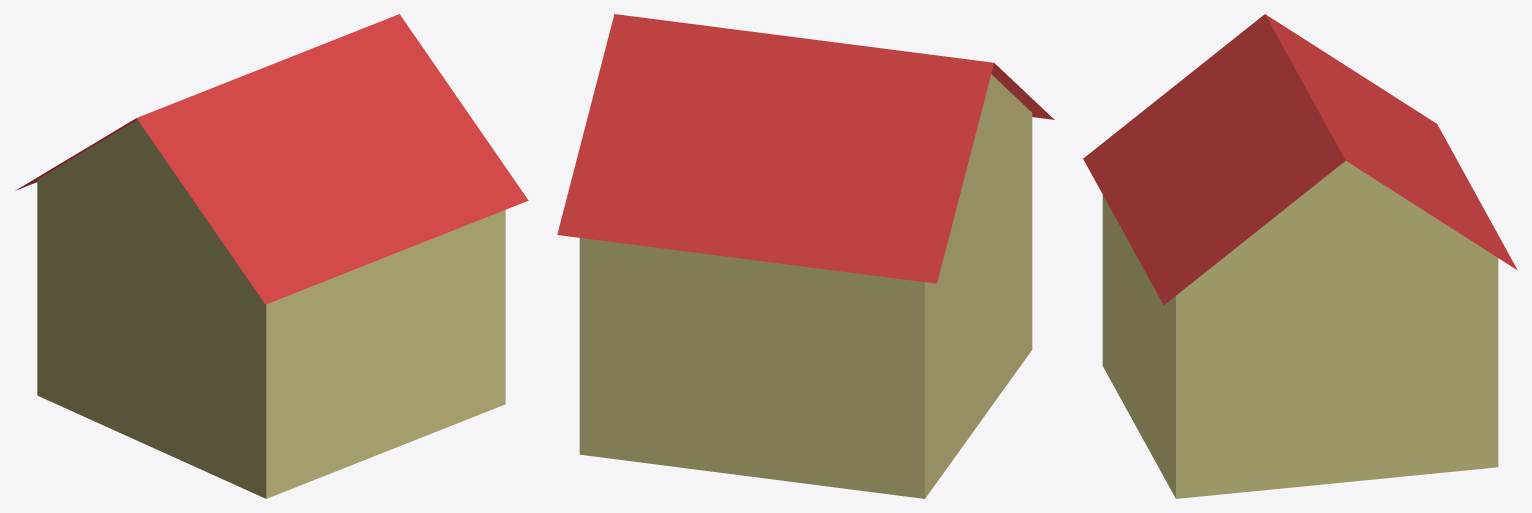
3 renders of one model, left to right at view 1: azimuth 30°, elevation 25°; view 2: azimuth 150°, elevation 25°; view 3: azimuth 270°, elevation 25°, orthographic. The views are drawn at different scales.
Size of the model in its own units: 13.23 by 13.4 by 11.17.
